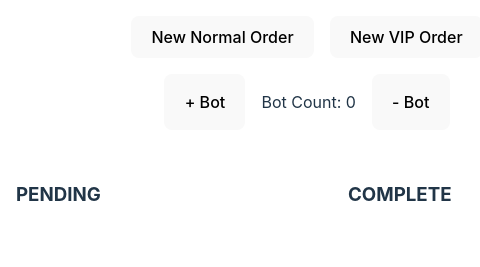
Scenario: McDonald's Order Controller › Main UI › adds a new normal order to the PENDING area
Click the button "New Normal Order" at coordinates (222, 37), box [131,16,314,58]
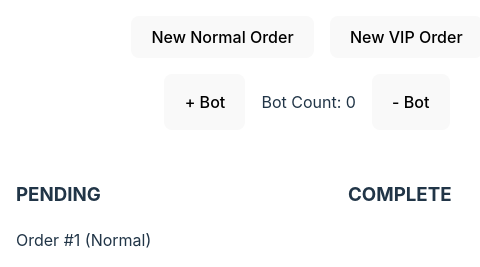
expect the text "Order #1 (Normal)" is shown: met, box [16,230,151,250]
